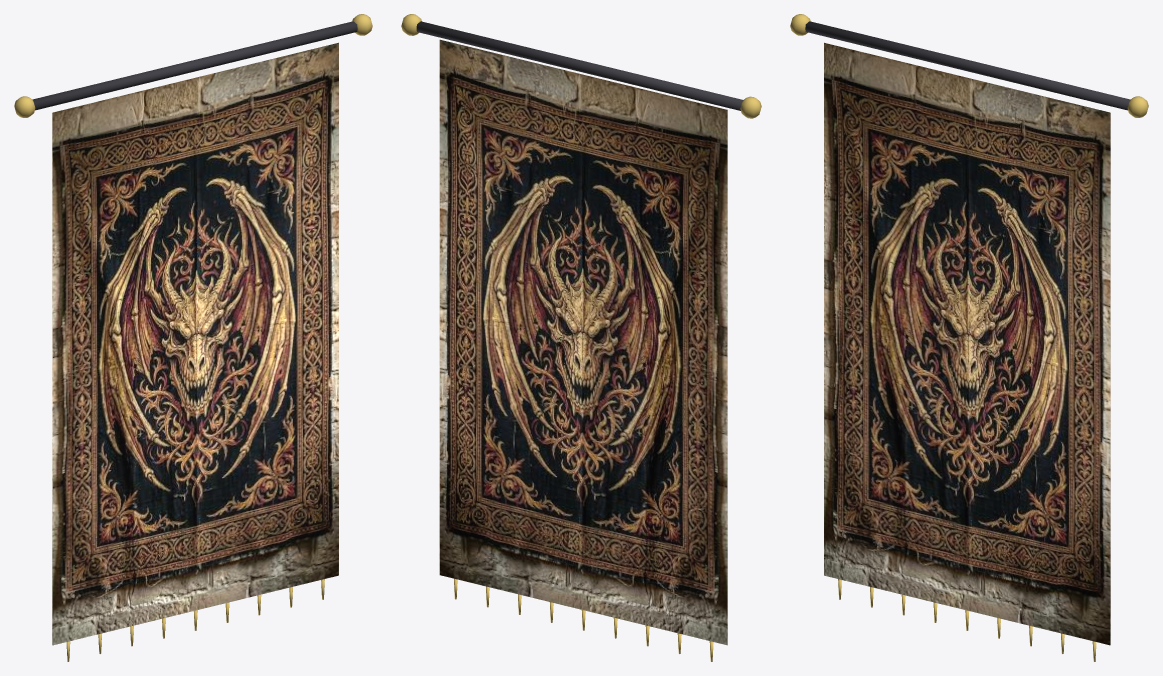
File: art_tapestry_dragon_skull.glb
3 renders of one model, left to right at view 1: azimuth 30°, elevation 25°; view 2: azimuth 150°, elevation 25°; view 3: azimuth 330°, elevation 25°, orthographic.
Visible parts, largest first — view 1: GD_art_tapestry_dragon_skull__m0, GD_art_tapestry_dragon_skull__m1, GD_art_tapestry_dragon_skull__m2; view 2: GD_art_tapestry_dragon_skull__m0, GD_art_tapestry_dragon_skull__m1, GD_art_tapestry_dragon_skull__m2; view 3: GD_art_tapestry_dragon_skull__m0, GD_art_tapestry_dragon_skull__m1, GD_art_tapestry_dragon_skull__m2.
Boxes of the visible parts, x1,y1,x2,y2 form: GD_art_tapestry_dragon_skull__m0: [52, 42, 338, 645]; GD_art_tapestry_dragon_skull__m1: [32, 21, 357, 110]; GD_art_tapestry_dragon_skull__m2: [14, 14, 372, 661]; GD_art_tapestry_dragon_skull__m0: [439, 39, 727, 645]; GD_art_tapestry_dragon_skull__m1: [416, 21, 742, 110]; GD_art_tapestry_dragon_skull__m2: [401, 14, 761, 661]; GD_art_tapestry_dragon_skull__m0: [824, 42, 1110, 645]; GD_art_tapestry_dragon_skull__m1: [805, 21, 1130, 110]; GD_art_tapestry_dragon_skull__m2: [790, 14, 1148, 661].
Bounding box in the file's own units: 1.12 × 1.72 × 0.06.
Materials: 3 (1 with a texture image).
